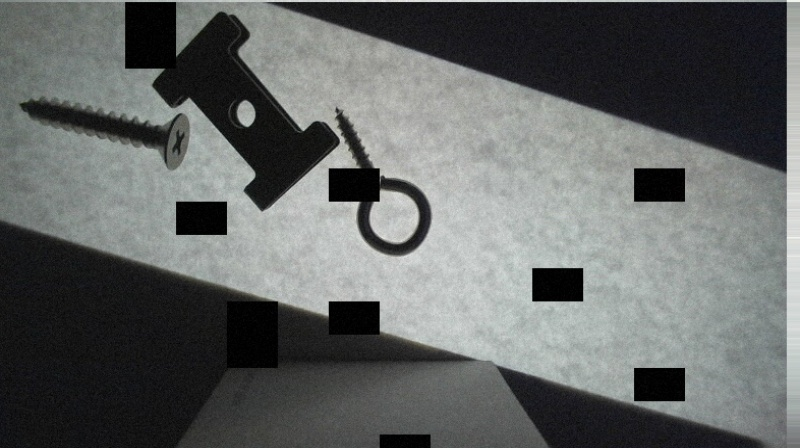O001: (333, 104, 434, 259)
O002: (148, 9, 341, 213)
S001: (16, 93, 194, 175)
